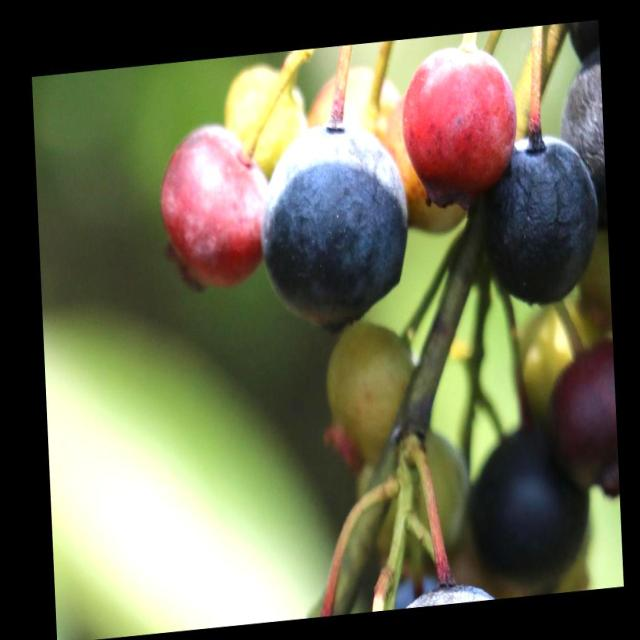blueberry: (252, 109, 416, 339), (468, 121, 603, 313), (460, 405, 596, 586), (548, 40, 606, 237), (376, 563, 504, 610)
blueberry-halfripe: (402, 42, 523, 202), (155, 117, 267, 286)
blueberry-unripe: (325, 320, 413, 458), (221, 61, 305, 168)
